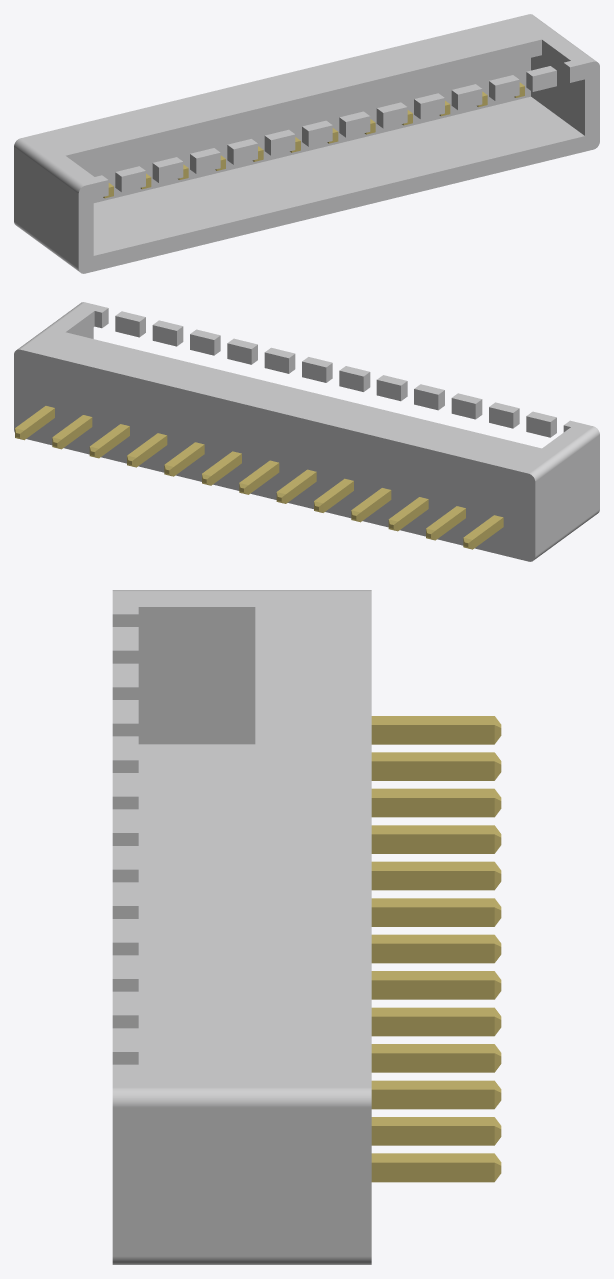
File: jst_ph_13pin.glb
The picture shows the model from 3 angles, top to bottom: view 1: azimuth 30°, elevation 25°; view 2: azimuth 150°, elevation 25°; view 3: azimuth 270°, elevation 25°; orthographic projection. The views are drawn at different scales.
Parts seen in each view (by area): view 1: world; view 2: world; view 3: world.
Boxes of the visible parts, x1=… form: world: x1=14, y1=14, x2=599, y2=273; world: x1=14, y1=302, x2=599, y2=561; world: x1=112, y1=590, x2=501, y2=1264.
Bounding box in the file's own units: 27.9 × 4.5 × 9.
